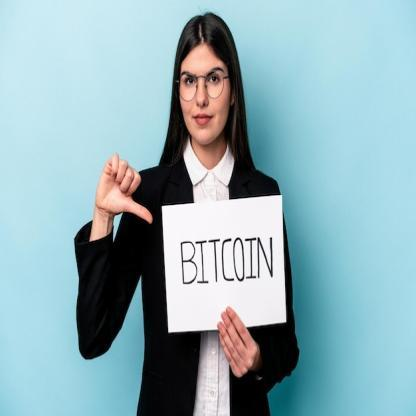thumb_down: (93, 148, 156, 226)
